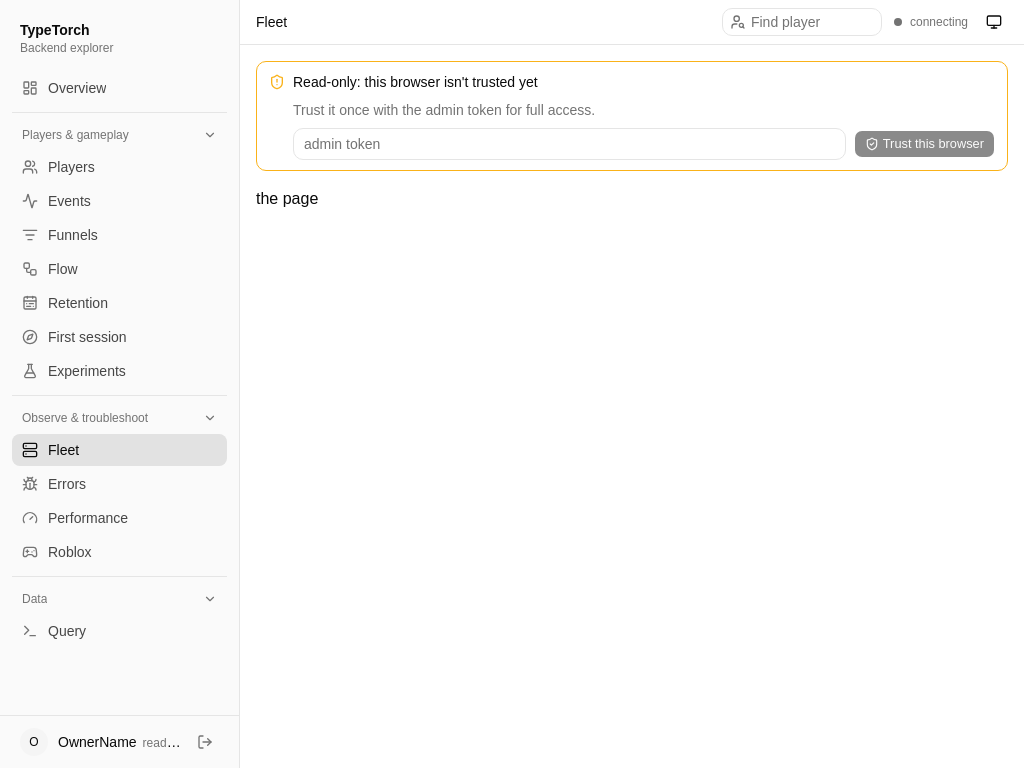
Test: app shell › an owner on an untrusted browser: a banner that trusts it with the admin token; not upgraded in place, it asks to sign in again
Expected: the text "Read-only: this browser isn't trusted yet" is shown, [293,74,538,90]
Type "wrong" into the password field labelled "admin token" at (569, 144), box [293,128,846,160]
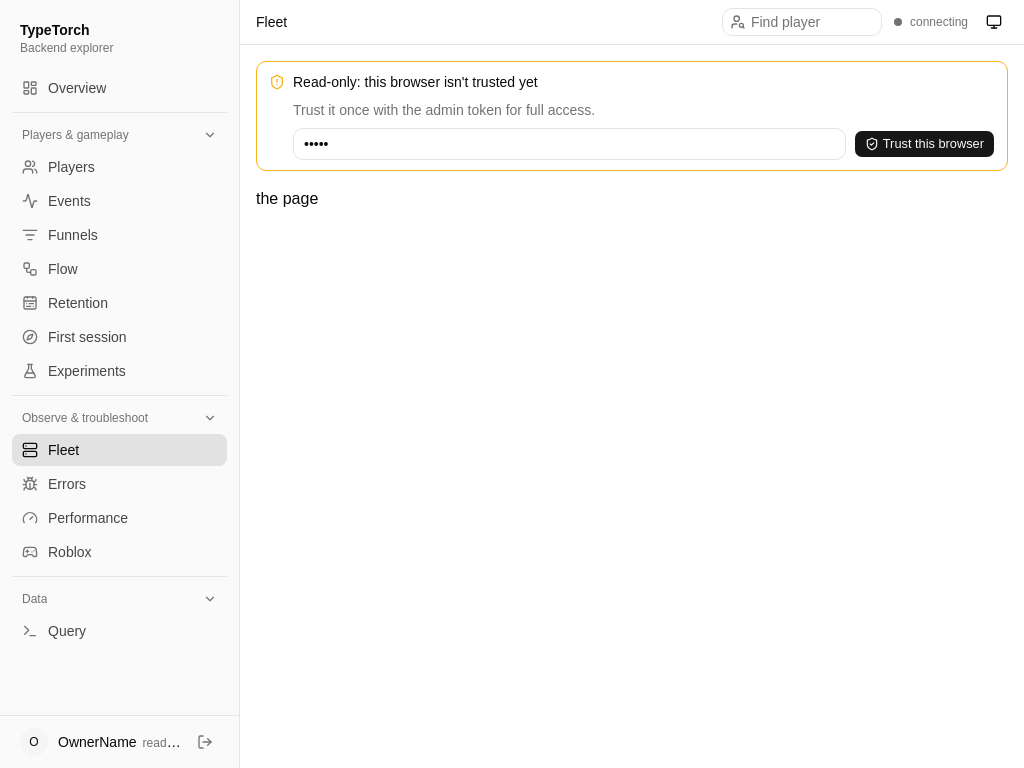
Click the button "Trust this browser" at (924, 144), box [854,130,995,158]
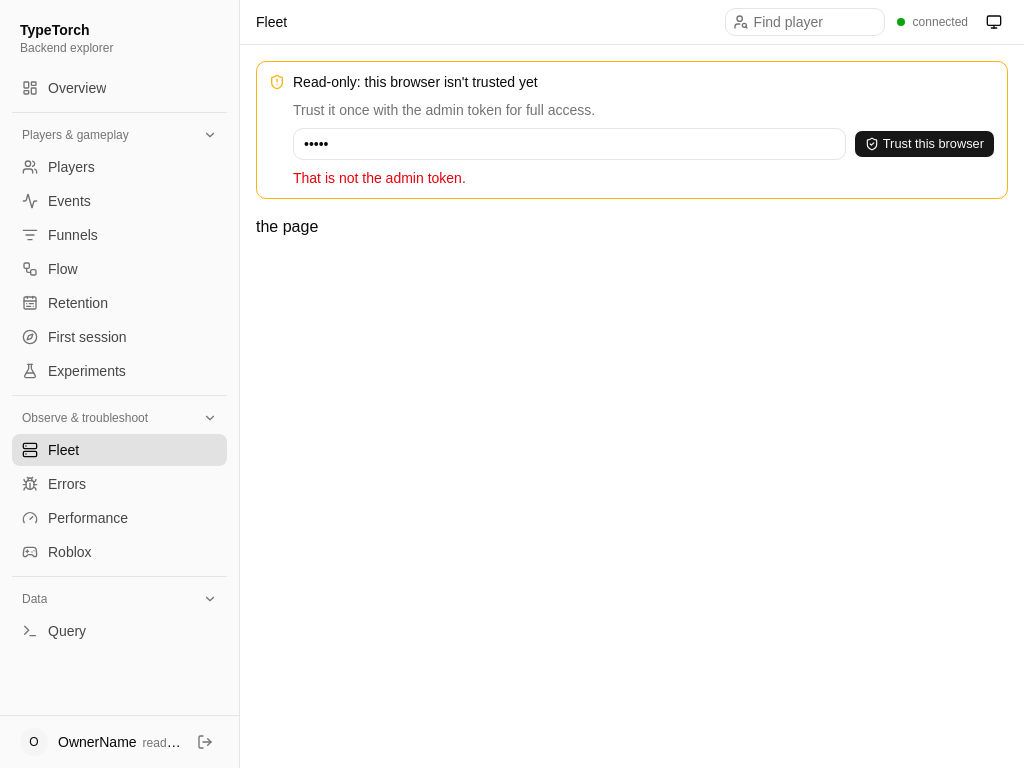
Expected: the text "That is not the admin token." is shown, [293,170,466,186]
Type " the-admin-token " into the password field at (569, 144), box [293,128,846,160]
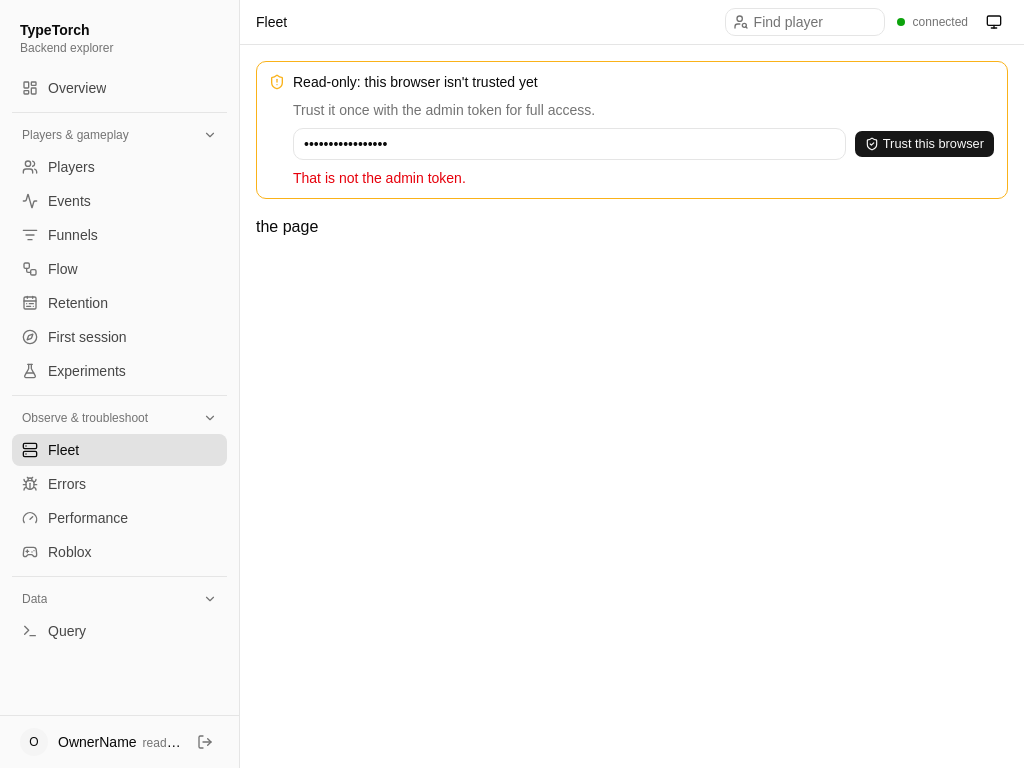
Click the button "Trust this browser" at (924, 144), box [854,130,995,158]
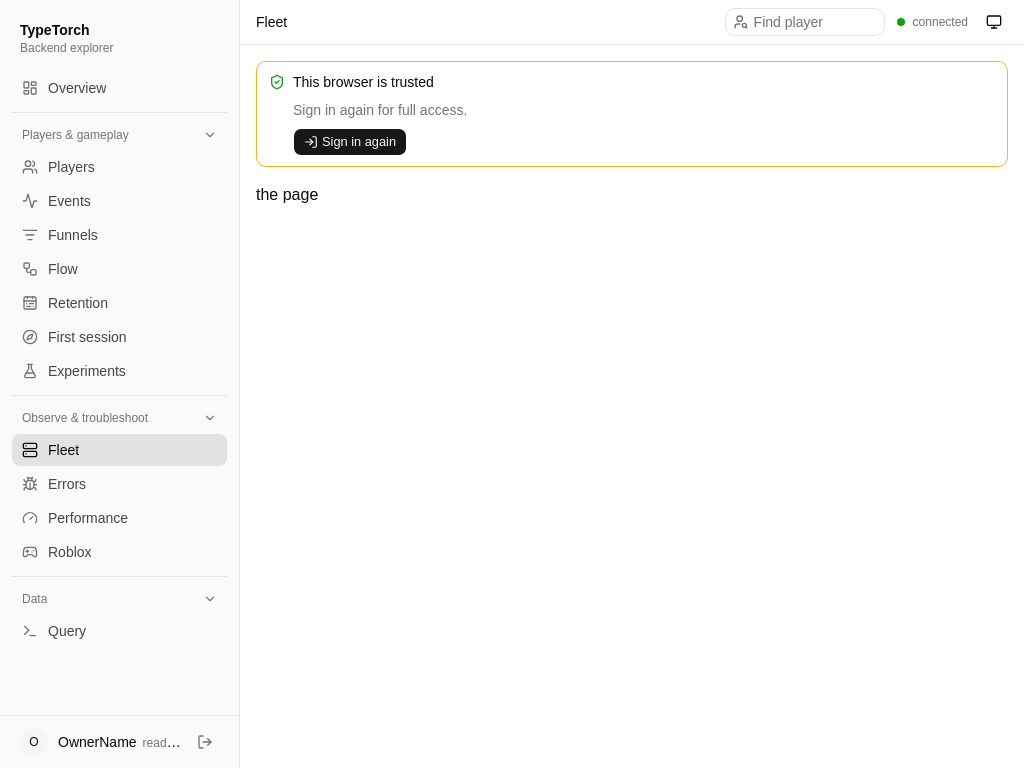
Expected: the text labelled "admin token" is gone
